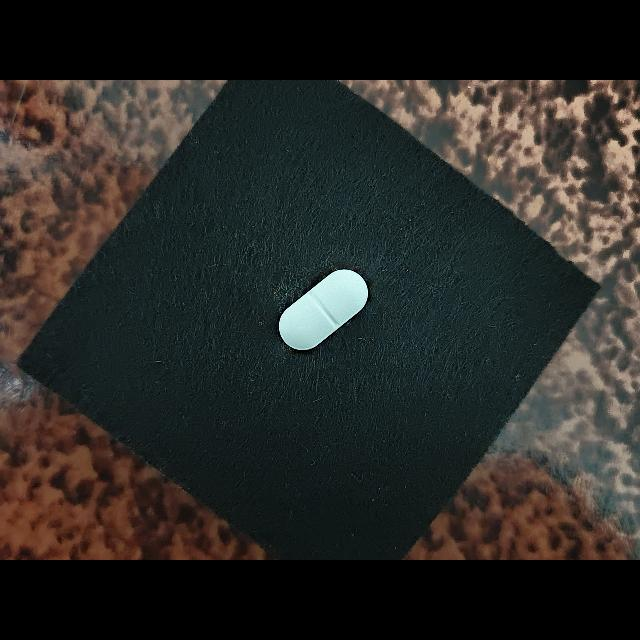Intact Pill: (279, 269, 368, 350)
